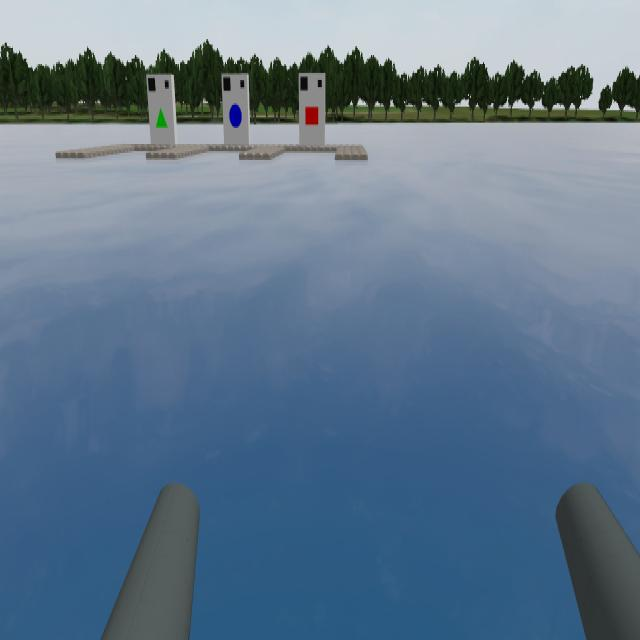dock: (298, 76, 326, 148), (148, 74, 175, 148), (221, 73, 249, 142)
